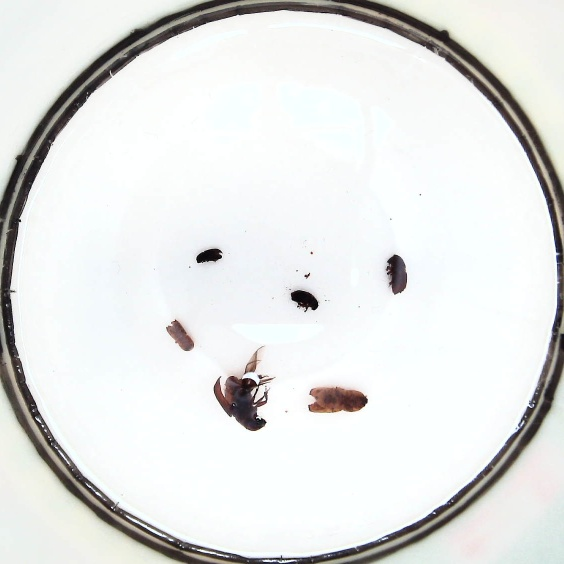acuminatus: (196, 248, 222, 263)
armandi: (166, 319, 194, 350)
boerner: (308, 386, 368, 413)
coleoptera: (290, 290, 318, 310)
leconte: (213, 375, 267, 431)
linnaeus: (387, 254, 407, 295)
